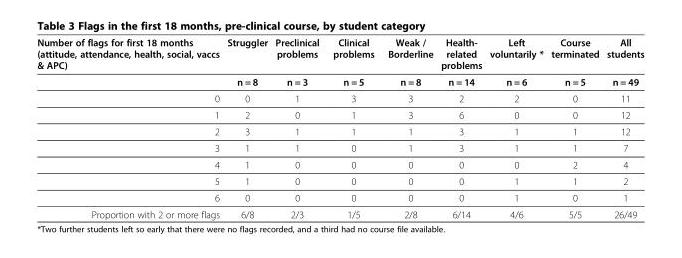table: (36, 36, 643, 219)
table column: (36, 36, 222, 219), (485, 36, 546, 219), (380, 36, 436, 219), (546, 36, 602, 219), (270, 36, 325, 219), (325, 36, 380, 219), (436, 36, 485, 219), (222, 36, 270, 219), (602, 36, 643, 219)
table column header: (36, 36, 643, 89)
table row: (36, 36, 643, 73), (36, 89, 643, 106), (36, 122, 643, 139), (36, 139, 643, 156), (36, 172, 643, 189), (36, 73, 643, 89), (36, 106, 643, 122), (36, 156, 643, 172), (36, 189, 643, 205), (36, 205, 643, 219)
table spanning cell: (36, 36, 222, 89), (485, 36, 546, 89), (380, 36, 436, 89), (546, 36, 602, 89), (270, 36, 325, 89), (325, 36, 380, 89), (436, 36, 485, 89), (222, 36, 270, 89), (602, 36, 643, 89)
